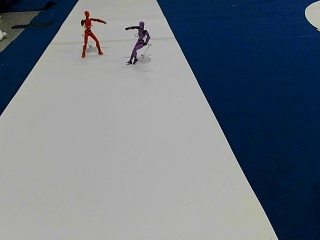pedestrian: (80, 9, 106, 57), (124, 20, 150, 63)
